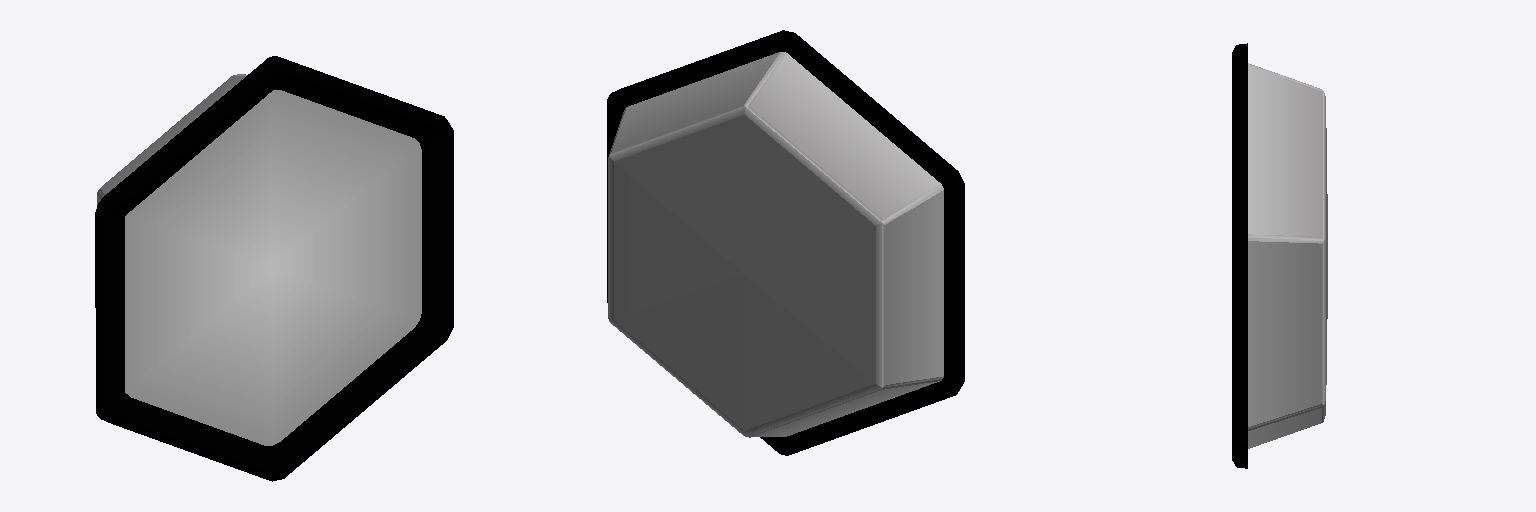
3 renders of one model, left to right at view 1: azimuth 30°, elevation 25°; view 2: azimuth 150°, elevation 25°; view 3: azimuth 270°, elevation 25°, orthographic.
Visible parts, largest first — view 1: Drumpad_LOD1_Cylinder.006; view 2: Drumpad_LOD1_Cylinder.006; view 3: Drumpad_LOD1_Cylinder.006.
Part boxes in pixels (x1,y1,x2,y2): Drumpad_LOD1_Cylinder.006: (95, 56, 453, 481); Drumpad_LOD1_Cylinder.006: (607, 30, 964, 455); Drumpad_LOD1_Cylinder.006: (1232, 43, 1327, 468).
Bounding box in the file's own units: 0.3839 × 0.4382 × 0.0911.
Materials: 2 (1 with a texture image).